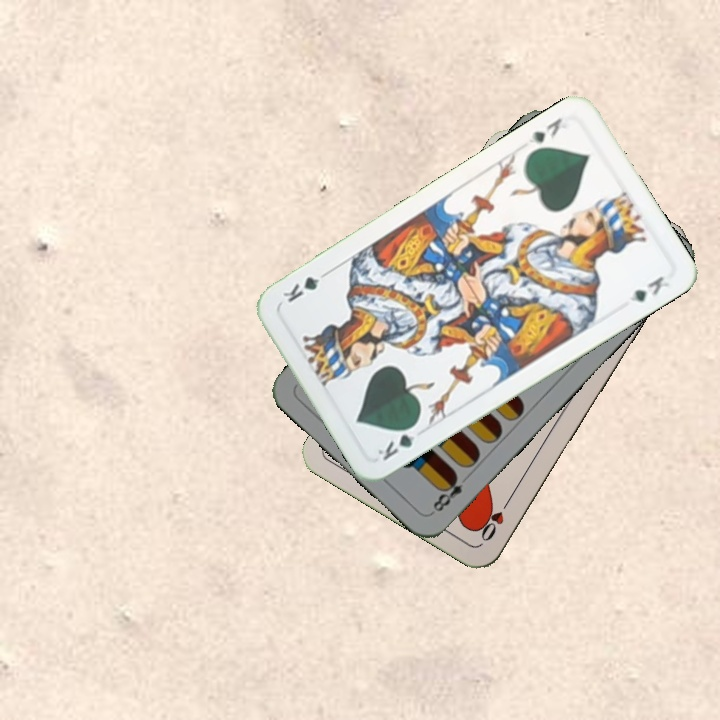E8: (427, 469, 473, 516)
GK: (373, 418, 421, 464), (524, 113, 565, 148)
HO: (476, 492, 515, 545)
